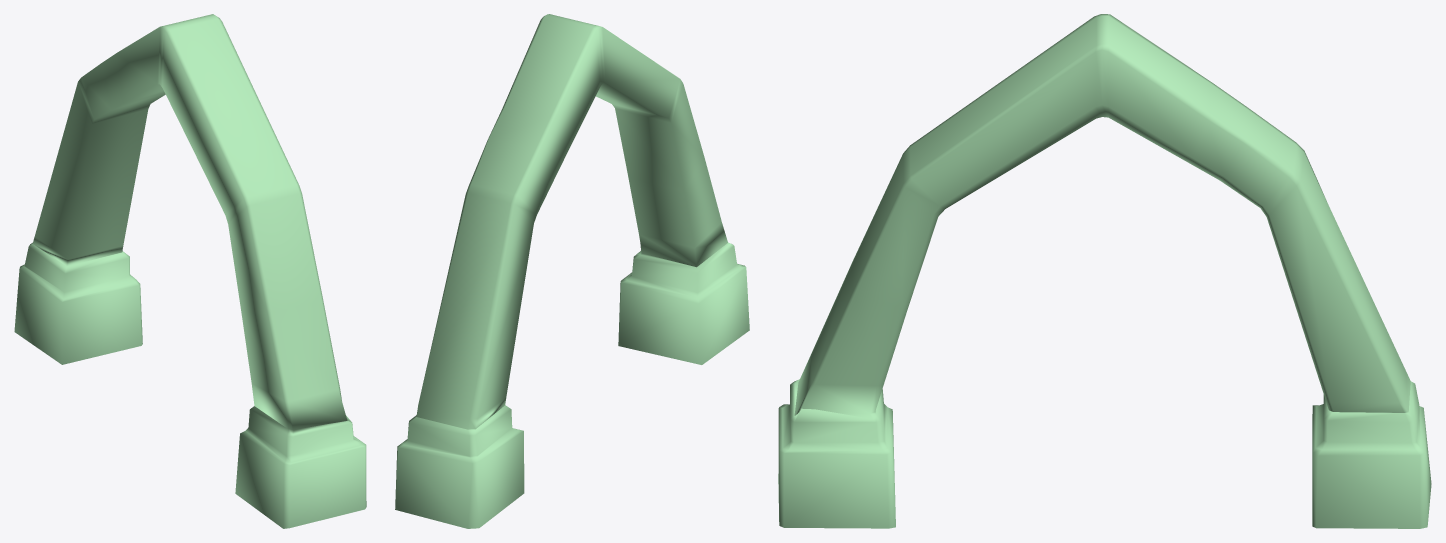
The model's file is Arche_Low.fbx.
3 views of the same model, side by side, from view 1: azimuth 30°, elevation 25°; view 2: azimuth 150°, elevation 25°; view 3: azimuth 270°, elevation 25° (orthographic). The views are drawn at different scales.
Parts seen in each view (by area): view 1: Arche_Start; view 2: Arche_Start; view 3: Arche_Start.
Part boxes in pixels (x1,y1,x2,y2): Arche_Start: [14, 14, 366, 528]; Arche_Start: [395, 14, 749, 528]; Arche_Start: [778, 14, 1431, 528].
Size of the model in its own units: 144 by 644 by 803.
